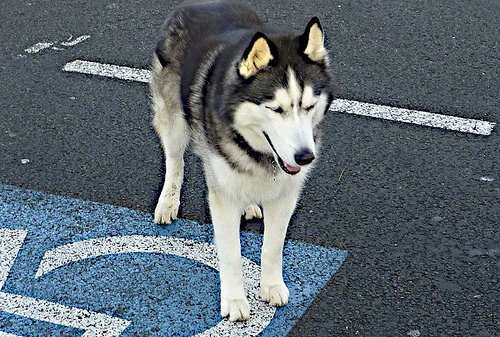dog: (137, 0, 349, 327)
